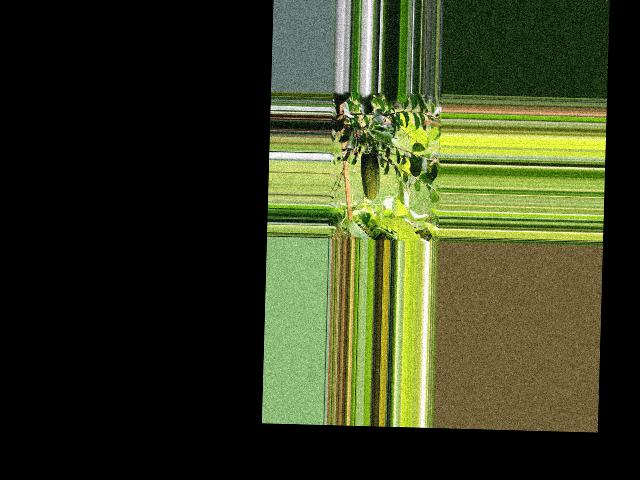cucumber: (358, 146, 380, 200)
